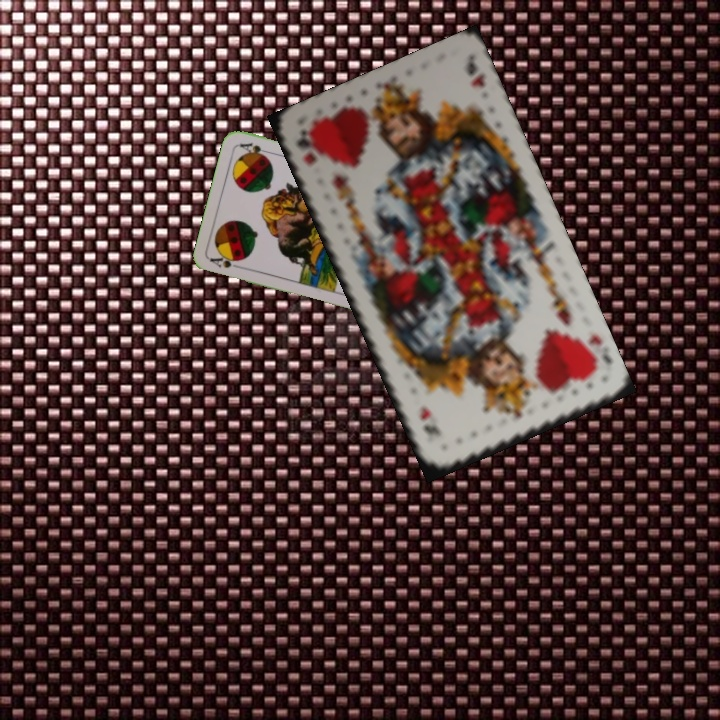HK: (584, 330, 616, 368), (292, 126, 319, 168)
SA: (206, 252, 247, 272)
